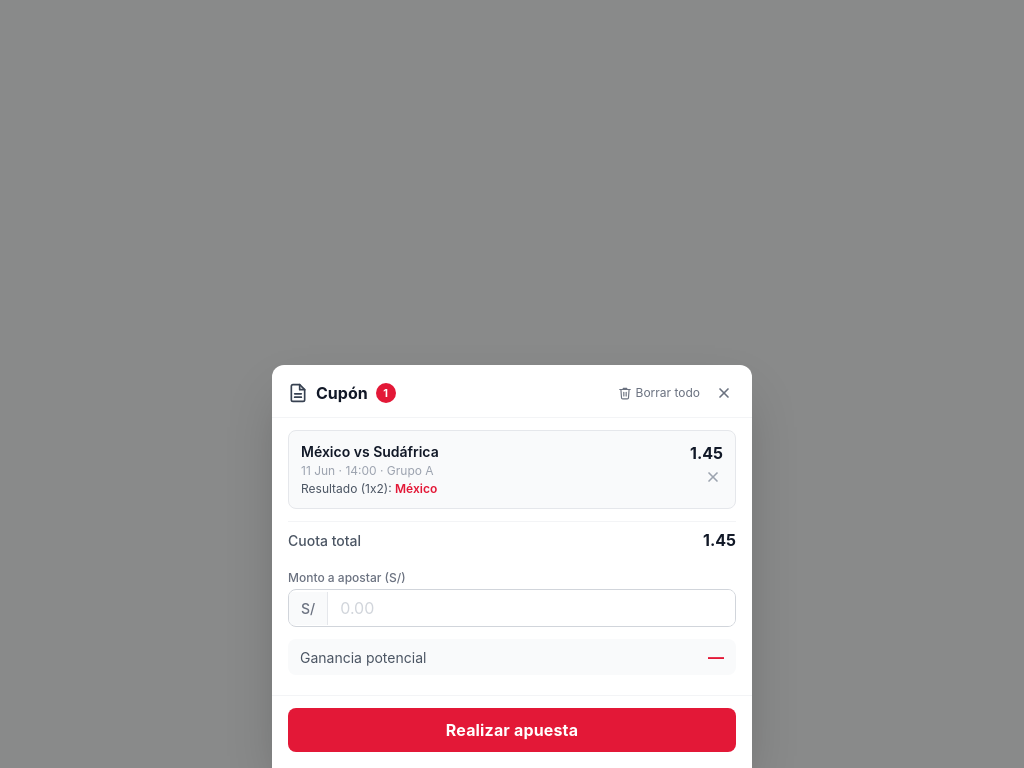
BettingSlip — gestión de selecciones › "Borrar todo" elimina todas las selecciones de la vista
What coordinates should you click on to do the following:
click the button named "Borrar todas las selecciones"
I would click on:
 (659, 392)
Its box is [614,381,704,404].
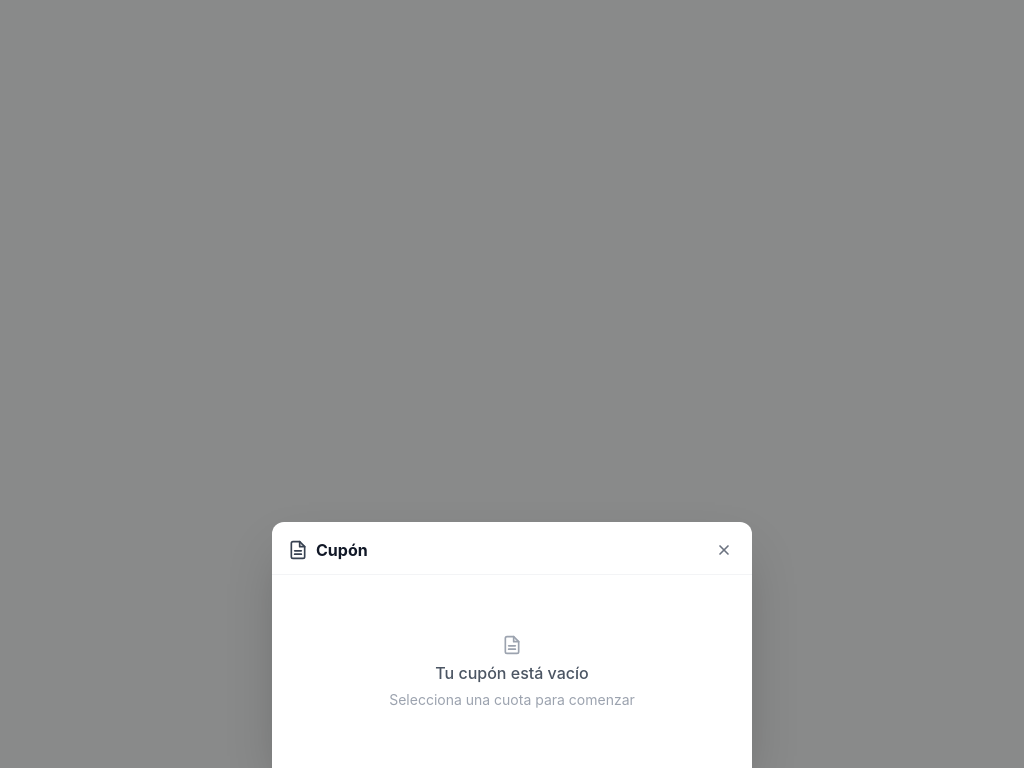
expect the text "México vs Sudáfrica" is gone: met
expect the text "Tu cupón está vacío" is shown: met, box [435,663,589,683]
